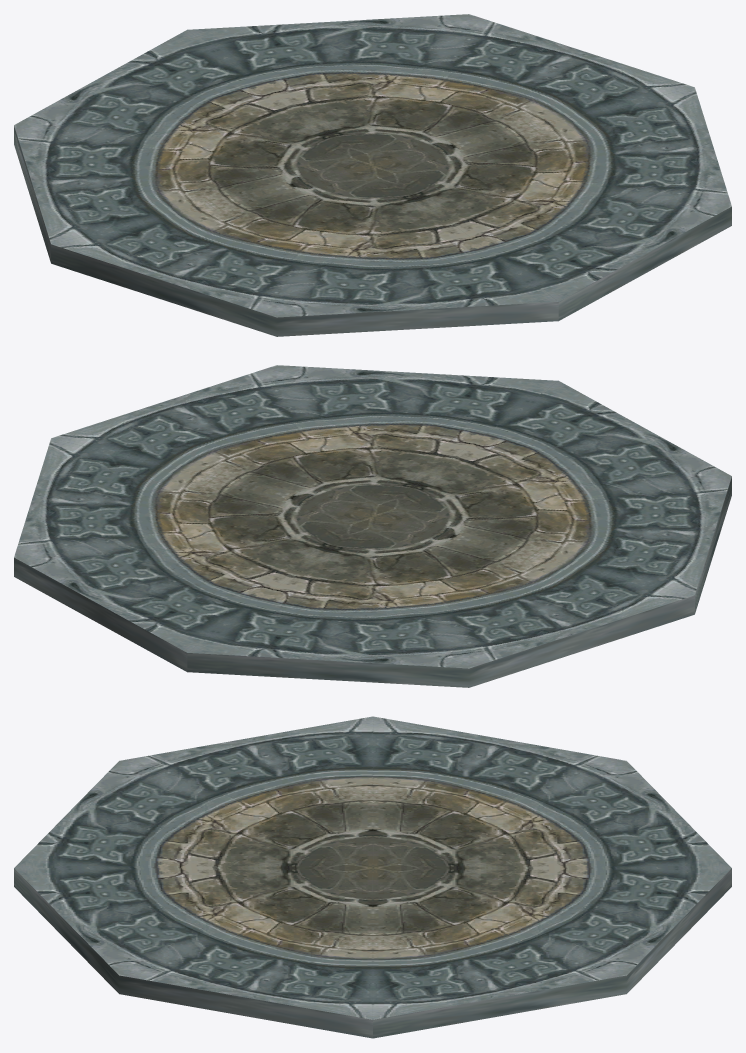
The model's file is environment_stone_dizhuanshuipian_002_a.FBX.
3 views of the same model, one above another, from view 1: azimuth 30°, elevation 25°; view 2: azimuth 150°, elevation 25°; view 3: azimuth 270°, elevation 25° (orthographic). The views are drawn at different scales.
Visible parts, largest first — view 1: environment_stone_dizhuanshuipian_002_a; view 2: environment_stone_dizhuanshuipian_002_a; view 3: environment_stone_dizhuanshuipian_002_a.
Part boxes in pixels (x1,y1,x2,y2): environment_stone_dizhuanshuipian_002_a: (14,14,731,336); environment_stone_dizhuanshuipian_002_a: (14,365,731,687); environment_stone_dizhuanshuipian_002_a: (14,716,731,1038).
Bounding box in the file's own units: 258 × 7.39 × 258.
1 material, 1 textured.
